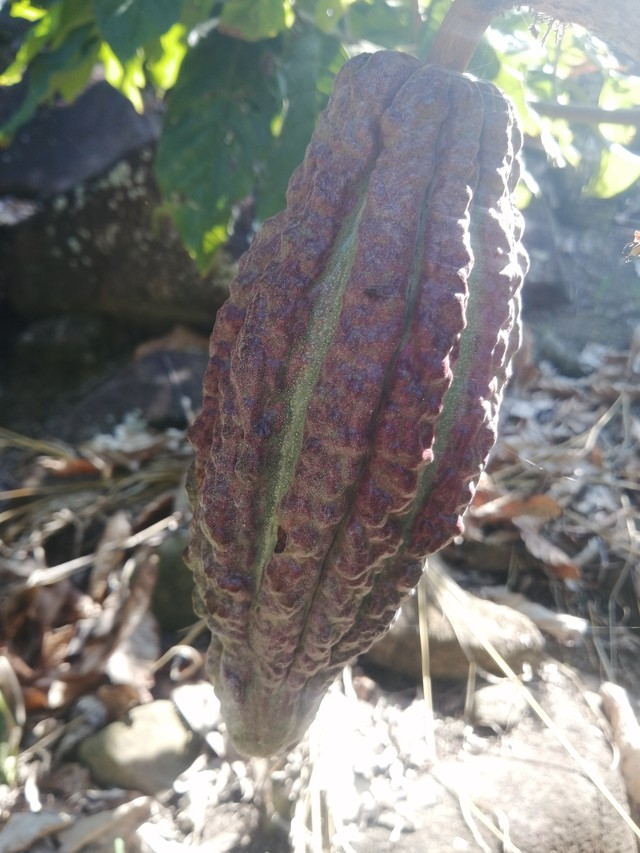Health: (136, 40, 545, 770)
